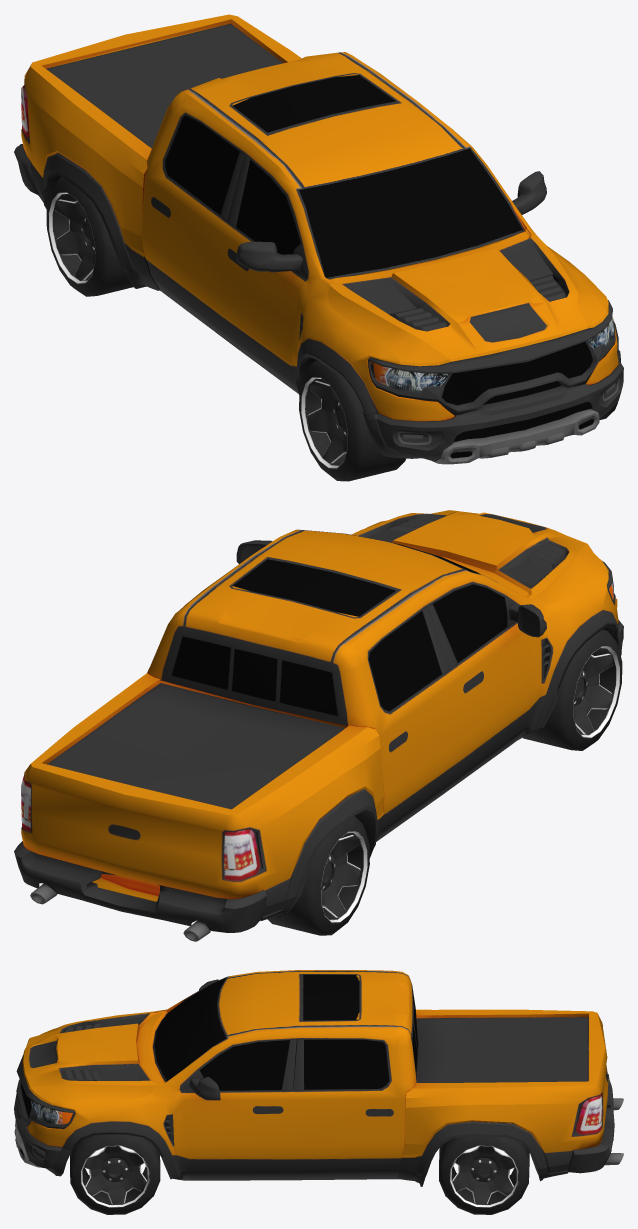
File: Dodge_1.fbx
The picture shows the model from 3 angles, top to bottom: view 1: azimuth 30°, elevation 25°; view 2: azimuth 150°, elevation 25°; view 3: azimuth 270°, elevation 25°; orthographic projection. The views are drawn at different scales.
Parts seen in each view (by area): view 1: BSurfaceMesh.014, Cylinder.002, BSurfaceMesh.013; view 2: BSurfaceMesh.014, Cylinder.002, BSurfaceMesh.013; view 3: BSurfaceMesh.014, Cylinder.002, BSurfaceMesh.013.
Boxes of the visible parts, bbox=[...] form: BSurfaceMesh.014: bbox=[21, 14, 618, 442]; Cylinder.002: bbox=[46, 176, 618, 481]; BSurfaceMesh.013: bbox=[14, 144, 623, 464]; BSurfaceMesh.014: bbox=[21, 510, 618, 941]; Cylinder.002: bbox=[267, 629, 622, 935]; BSurfaceMesh.013: bbox=[14, 619, 623, 932]; BSurfaceMesh.014: bbox=[16, 970, 623, 1186]; Cylinder.002: bbox=[70, 1134, 529, 1214]; BSurfaceMesh.013: bbox=[14, 1074, 614, 1176].
Bounding box in the file's own units: 251 × 187 × 597.
Materials: 1 (1 with a texture image).
